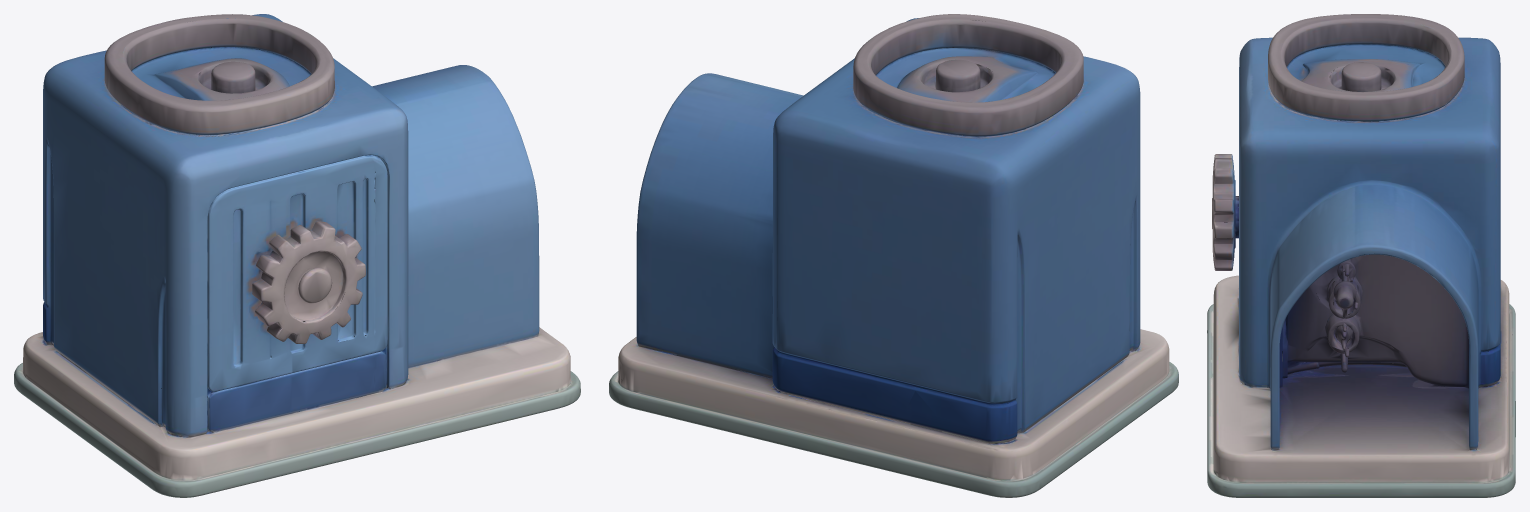
Rendered from hopper-housing-blue.glb.
3 views of the same model, side by side, from view 1: azimuth 30°, elevation 25°; view 2: azimuth 150°, elevation 25°; view 3: azimuth 270°, elevation 25° (orthographic). The views are drawn at different scales.
Visible parts, largest first — view 1: hopper-housing-blue; view 2: hopper-housing-blue; view 3: hopper-housing-blue.
Boxes of the visible parts, x1,y1,x2,y2 form: hopper-housing-blue: (14,14,580,497); hopper-housing-blue: (609,14,1178,497); hopper-housing-blue: (1207,14,1515,497).
Bounding box in the file's own units: 1.12 × 0.8764 × 0.773.
1 material, 1 textured.
